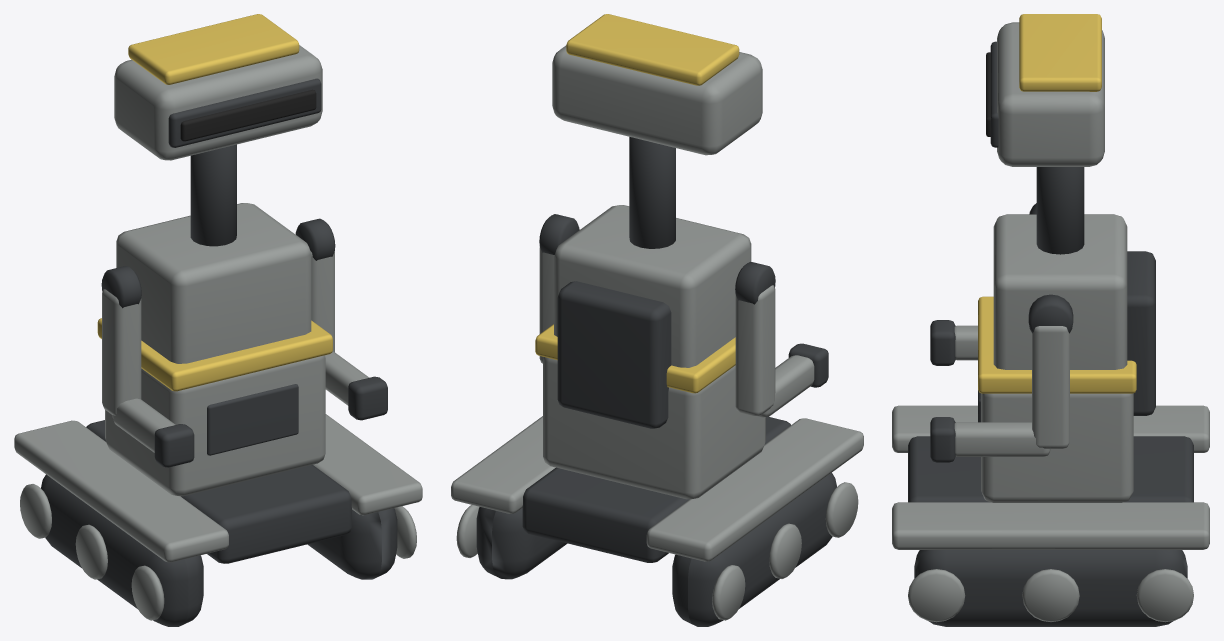
The model's file is recovery_unit.glb.
3 renders of one model, left to right at view 1: azimuth 30°, elevation 25°; view 2: azimuth 150°, elevation 25°; view 3: azimuth 270°, elevation 25°, orthographic. The views are drawn at different scales.
Parts seen in each view (by area): view 1: UnitBody, Eye; view 2: UnitBody; view 3: UnitBody.
Part boxes in pixels (<box>): UnitBody: <box>14,14,422,626</box>; Eye: <box>180,89,316,141</box>; UnitBody: <box>451,14,863,626</box>; UnitBody: <box>892,14,1209,626</box>.
Bounding box in the file's own units: 0.97 × 1.84 × 1.
